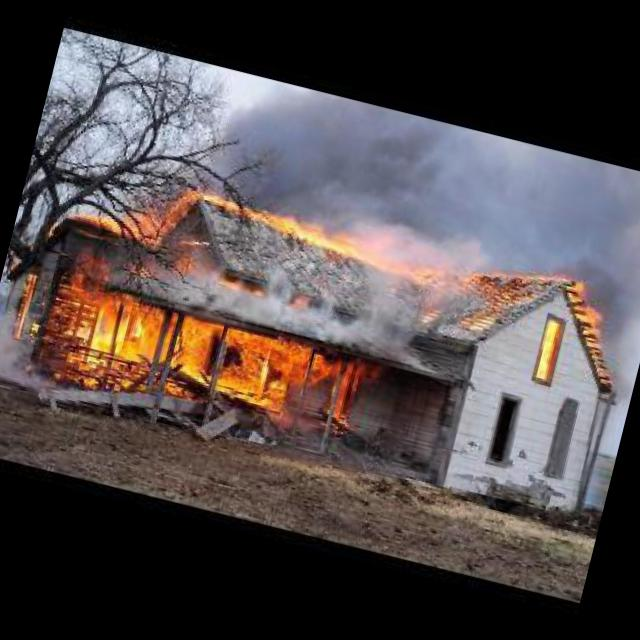fire: (55, 284, 378, 452), (170, 182, 439, 277), (559, 278, 620, 338), (532, 311, 568, 385)
smoke: (195, 65, 640, 300), (258, 252, 434, 358), (110, 254, 262, 322), (0, 257, 68, 387)
